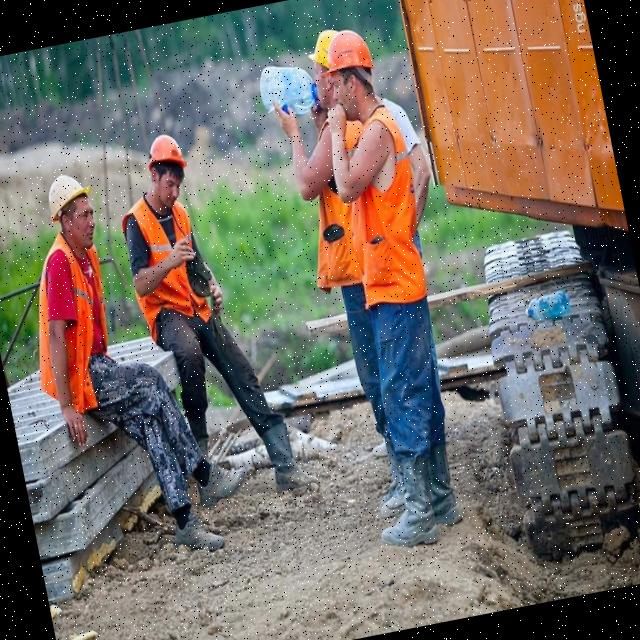Helmet: (314, 27, 376, 84), (44, 171, 98, 226), (145, 132, 190, 178), (304, 31, 333, 74)
Jacket: (340, 111, 436, 303), (39, 244, 122, 397), (123, 203, 208, 322)
